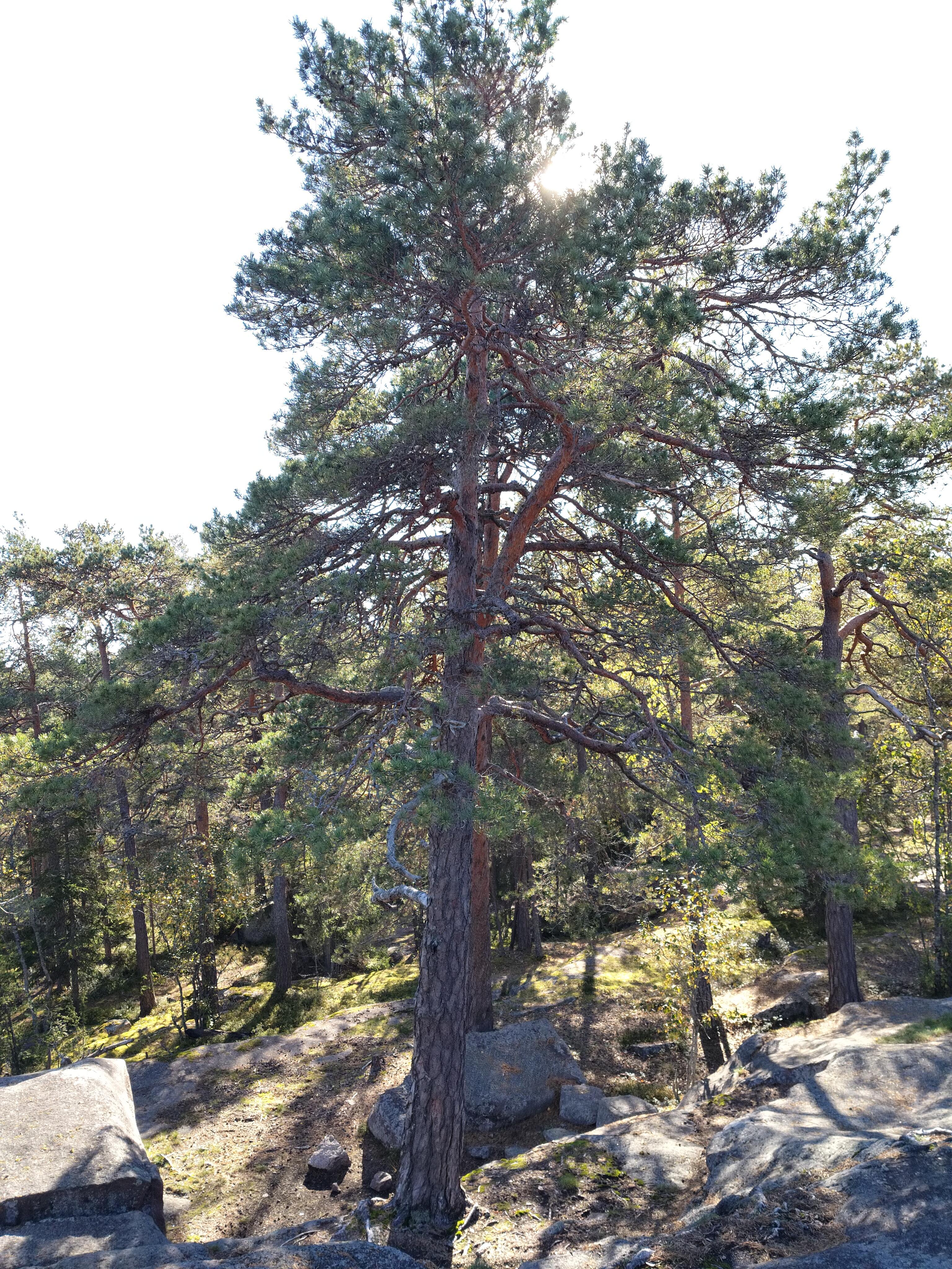Pine: (233, 0, 762, 1202)
